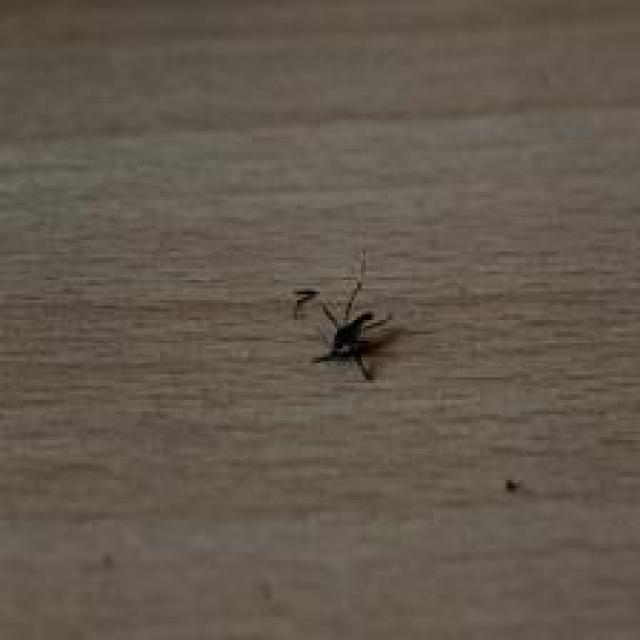Aedes albopictus: (290, 248, 404, 383)
